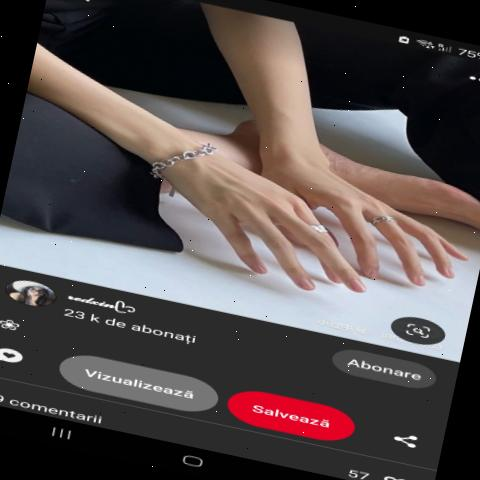hands: (196, 120, 480, 309), (107, 132, 371, 316)
